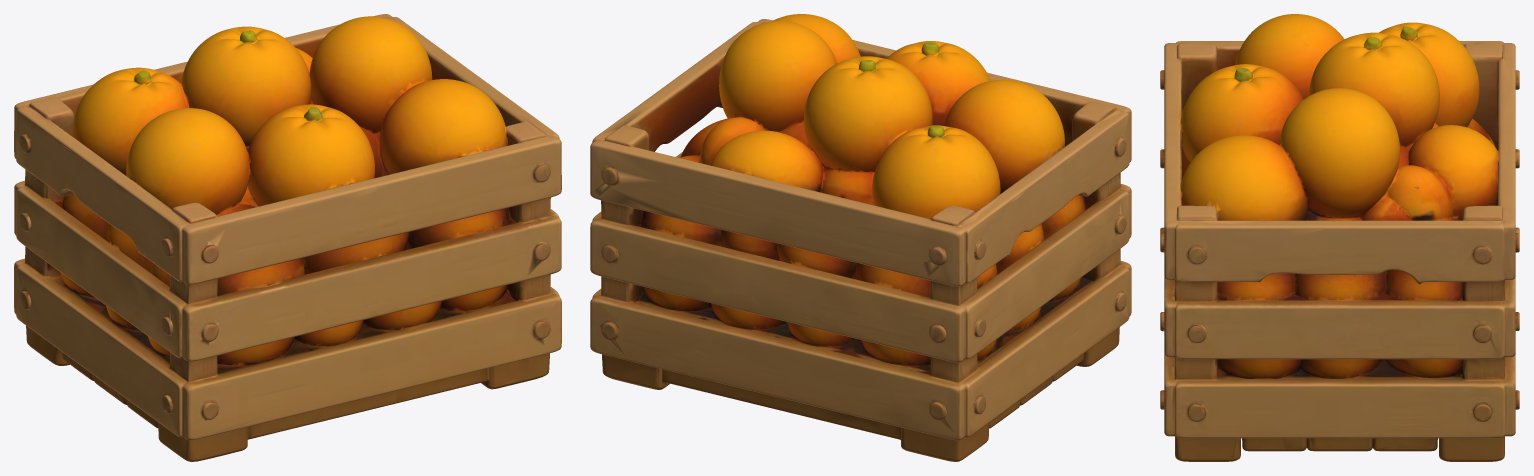
The model's file is A_wooden_fruit_crate_half-filled_with_oranges.glb.
3 renders of one model, left to right at view 1: azimuth 30°, elevation 25°; view 2: azimuth 150°, elevation 25°; view 3: azimuth 270°, elevation 25°, orthographic.
Visible parts, largest first — view 1: node_0; view 2: node_0; view 3: node_0.
Boxes of the visible parts, x1,y1,x2,y2 form: node_0: [14, 14, 561, 461]; node_0: [590, 14, 1131, 461]; node_0: [1160, 14, 1519, 461].
Size of the model in its own units: 0.8516 by 0.6792 by 0.6811.
Materials: 1 (1 with a texture image).
